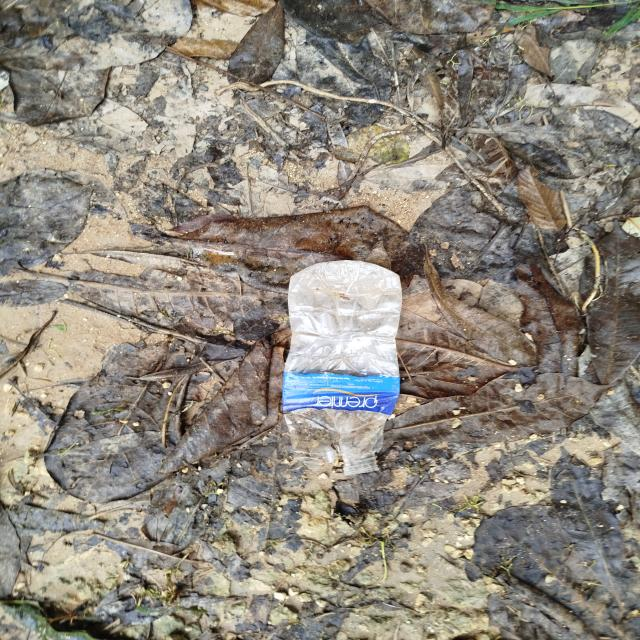plastic: (263, 250, 442, 503)
